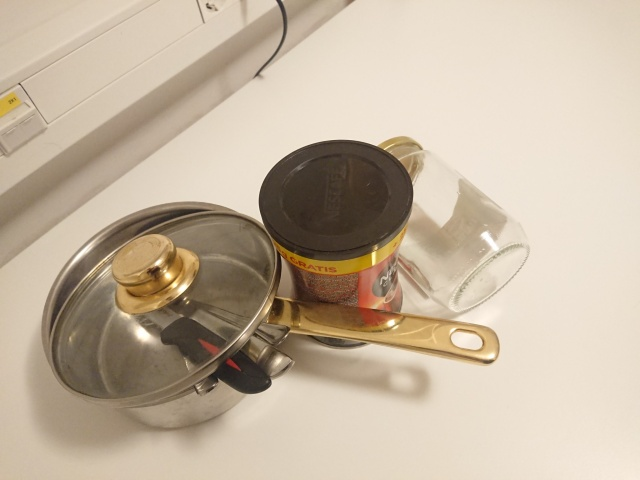Nescafe Classic 225g: (255, 136, 417, 353)
